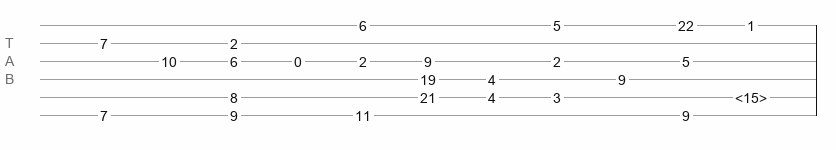0: (294, 54, 302, 64)
1: (747, 18, 755, 28)
10: (161, 54, 177, 64)
11: (355, 108, 371, 118)
19: (420, 72, 436, 82)
2: (230, 36, 238, 46), (359, 54, 367, 64), (553, 54, 561, 64)
21: (420, 90, 436, 100)
22: (678, 18, 694, 28)
3: (553, 90, 561, 100)
4: (488, 90, 496, 100), (488, 72, 496, 82)
5: (553, 18, 561, 28), (682, 54, 690, 64)
6: (230, 54, 238, 64), (359, 18, 367, 28)
7: (100, 36, 108, 46), (100, 108, 108, 118)
8: (230, 90, 238, 100)
9: (230, 108, 238, 118), (424, 54, 432, 64), (618, 72, 626, 82), (682, 108, 690, 118)
harmonic: (735, 90, 767, 100)
